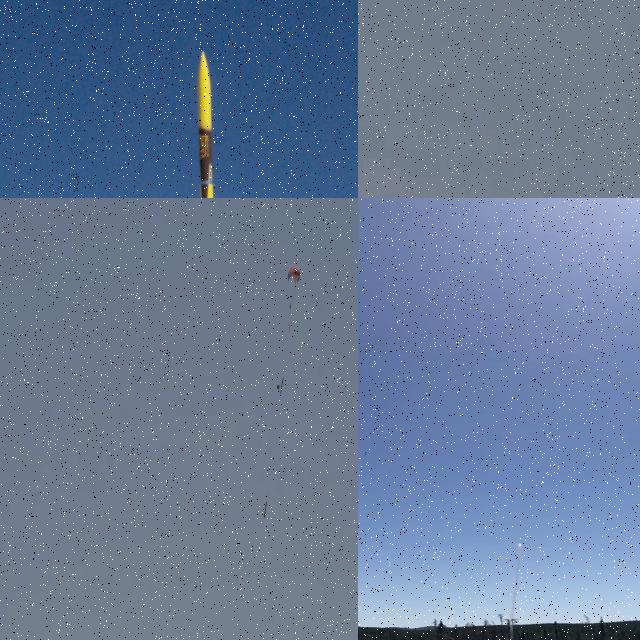Rocket: (186, 50, 222, 198), (263, 501, 268, 519), (519, 541, 522, 543)
